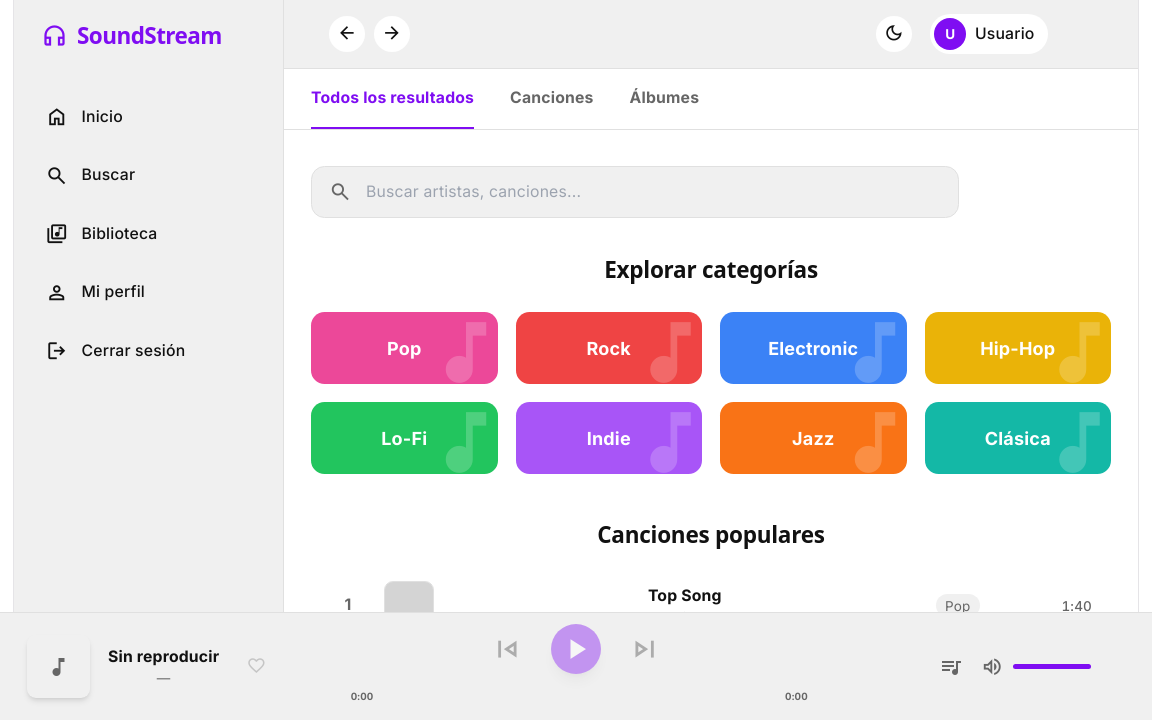
Test: Page components › renders Buscar and performs search
Check: the heading "Canciones populares" is shown, box [597,519,825,550]
Type "rock" into the field with placeholder "Buscar artistas, canciones...".
click(635, 192); type("rock")  # box [311,166,959,218]
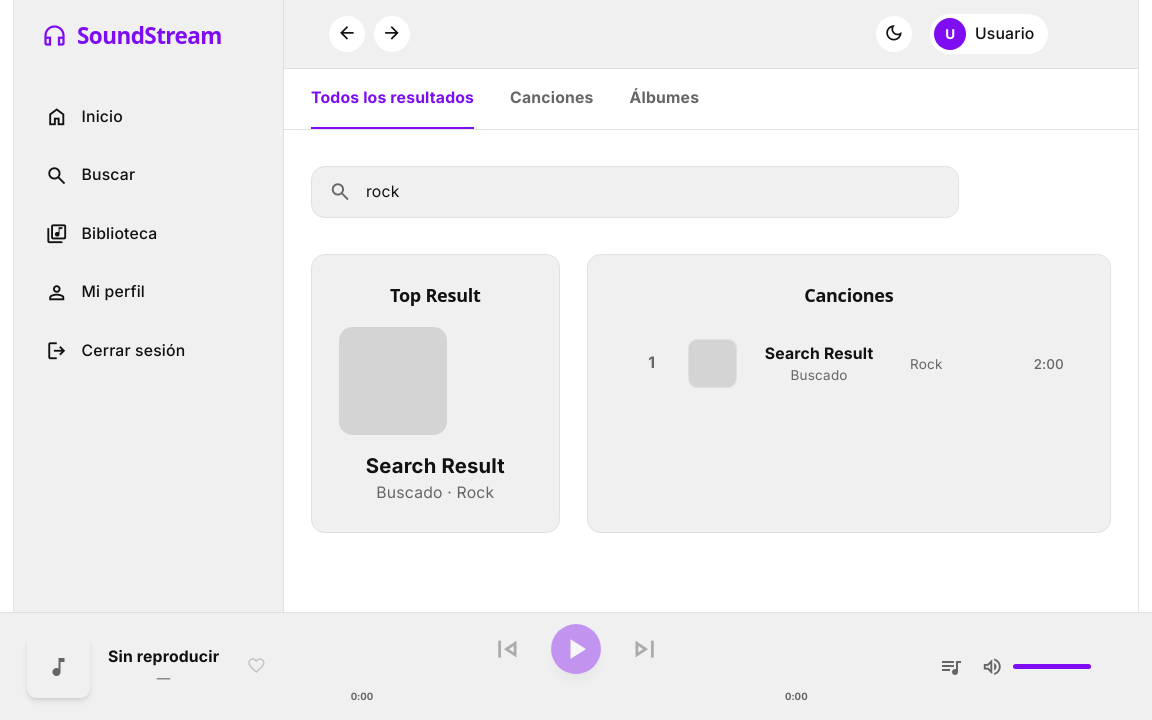
Check: the heading "Top Result" is shown, box [390,282,481,306]
